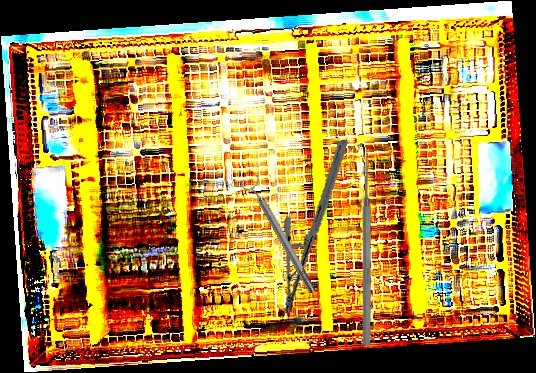Fixation Ring: (238, 171, 322, 298)
Needle Holder: (253, 139, 378, 314)
Pusher: (361, 151, 373, 346)
